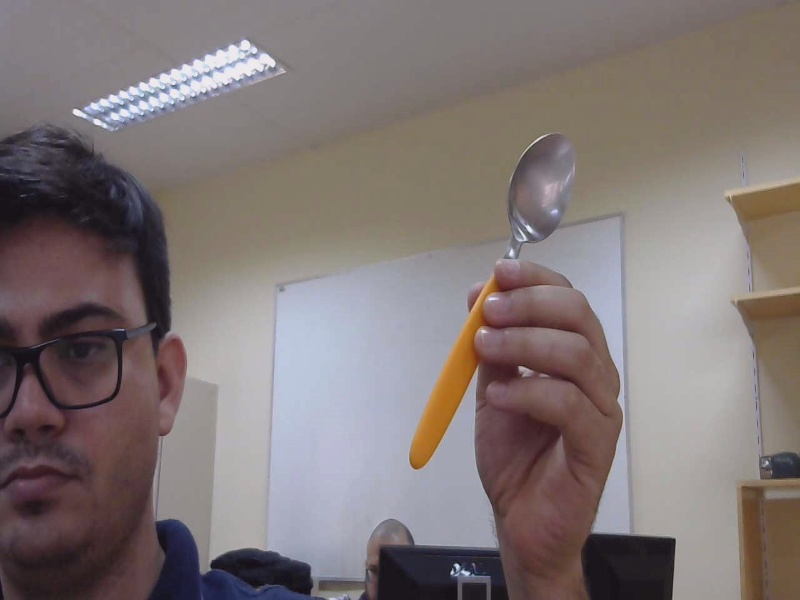cuchara: (405, 115, 570, 491)
